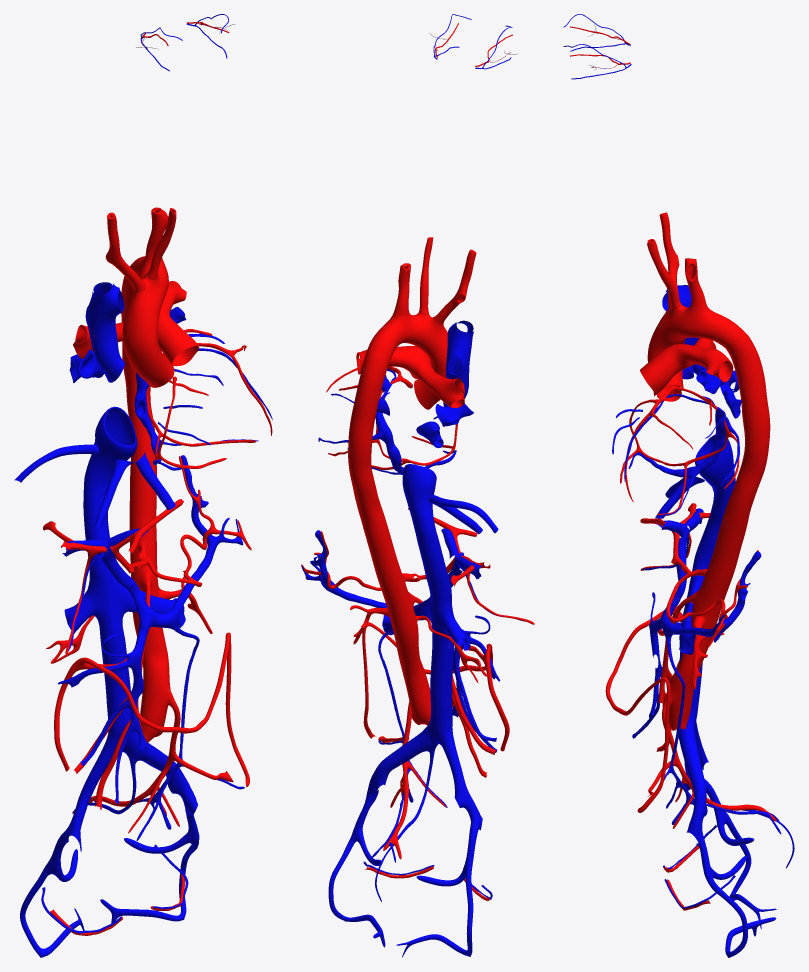
File: 3d-vh-f-blood-vasculature.glb
3 views of the same model, side by side, from view 1: azimuth 30°, elevation 25°; view 2: azimuth 150°, elevation 25°; view 3: azimuth 270°, elevation 25° (orthographic). The views are drawn at different scales.
Visible parts, largest first — view 1: VH_F_inferior_vena_cava_b, VH_F_descending_aorta_b, VH_F_superior_vena_cava, VH_F_marginal_artery_of_Drummond, VH_F_ascending_aorta, VH_F_inferior_vena_cava_a, VH_F_splenic_vein, VH_F_aortic_arch, VH_F_left_common_iliac_vein, VH_F_pulmonary_trunk, VH_F_descending_aorta_a, VH_F_right_common_iliac_vein (+14 smaller); view 2: VH_F_descending_aorta_b, VH_F_inferior_vena_cava_b, VH_F_descending_aorta_a, VH_F_aortic_arch, VH_F_inferior_vena_cava_a, VH_F_left_common_iliac_vein, VH_F_superior_vena_cava, VH_F_marginal_artery_of_Drummond, VH_F_pulmonary_artery_R, VH_F_right_common_iliac_vein, VH_F_splenic_vein, VH_F_ascending_aorta (+6 smaller); view 3: VH_F_descending_aorta_b, VH_F_descending_aorta_a, VH_F_aortic_arch, VH_F_inferior_vena_cava_b, VH_F_left_common_iliac_vein, VH_F_marginal_artery_of_Drummond, VH_F_splenic_vein, VH_F_inferior_vena_cava_a, VH_F_pulmonary_artery_L, VH_F_pulmonary_trunk, VH_F_splenic_artery, VH_F_ascending_aorta (+11 smaller).
Boxes of the visible parts, <box> form: VH_F_inferior_vena_cava_b: <box>83,463,136,752</box>; VH_F_descending_aorta_b: <box>129,444,170,742</box>; VH_F_superior_vena_cava: <box>85,282,124,382</box>; VH_F_marginal_artery_of_Drummond: <box>54,632,249,786</box>; VH_F_ascending_aorta: <box>122,312,174,387</box>; VH_F_inferior_vena_cava_a: <box>88,406,137,476</box>; VH_F_splenic_vein: <box>140,455,243,629</box>; VH_F_aortic_arch: <box>125,256,168,315</box>; VH_F_left_common_iliac_vein: <box>125,733,197,815</box>; VH_F_pulmonary_trunk: <box>158,309,199,366</box>; VH_F_descending_aorta_a: <box>121,276,154,444</box>; VH_F_right_common_iliac_vein: <box>65,736,116,843</box>; VH_F_descending_aorta_b: <box>359,504,430,725</box>; VH_F_inferior_vena_cava_b: <box>412,517,454,745</box>; VH_F_descending_aorta_a: <box>348,347,389,515</box>; VH_F_aortic_arch: <box>368,312,447,360</box>; VH_F_inferior_vena_cava_a: <box>402,464,436,518</box>; VH_F_left_common_iliac_vein: <box>364,724,434,805</box>; VH_F_superior_vena_cava: <box>443,320,473,406</box>; VH_F_marginal_artery_of_Drummond: <box>362,622,509,751</box>; VH_F_pulmonary_artery_R: <box>413,357,464,407</box>; VH_F_right_common_iliac_vein: <box>441,729,482,830</box>; VH_F_splenic_vein: <box>301,530,386,607</box>; VH_F_ascending_aorta: <box>414,347,447,409</box>; VH_F_descending_aorta_b: <box>668,498,751,730</box>; VH_F_descending_aorta_a: <box>724,332,770,509</box>; VH_F_aortic_arch: <box>658,304,744,346</box>; VH_F_inferior_vena_cava_b: <box>679,480,735,726</box>; VH_F_left_common_iliac_vein: <box>678,718,707,843</box>; VH_F_marginal_artery_of_Drummond: <box>605,609,682,812</box>; VH_F_splenic_vein: <box>660,551,761,642</box>; VH_F_inferior_vena_cava_a: <box>695,434,735,493</box>; VH_F_pulmonary_artery_L: <box>676,344,733,382</box>; VH_F_pulmonary_trunk: <box>640,344,694,394</box>; VH_F_splenic_artery: <box>666,550,758,647</box>; VH_F_ascending_aorta: <box>647,324,685,401</box>.
Size of the model in its own units: 0.1928 by 0.7992 by 0.1849.
